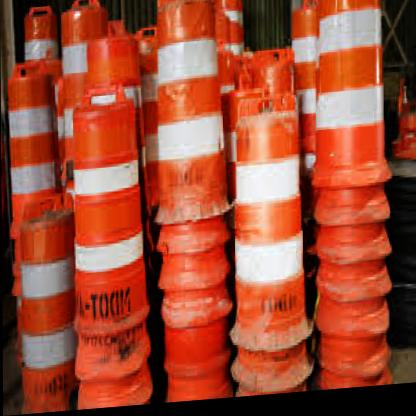obstacle: (228, 90, 302, 367), (71, 90, 148, 349), (305, 0, 389, 201), (151, 5, 222, 233)
